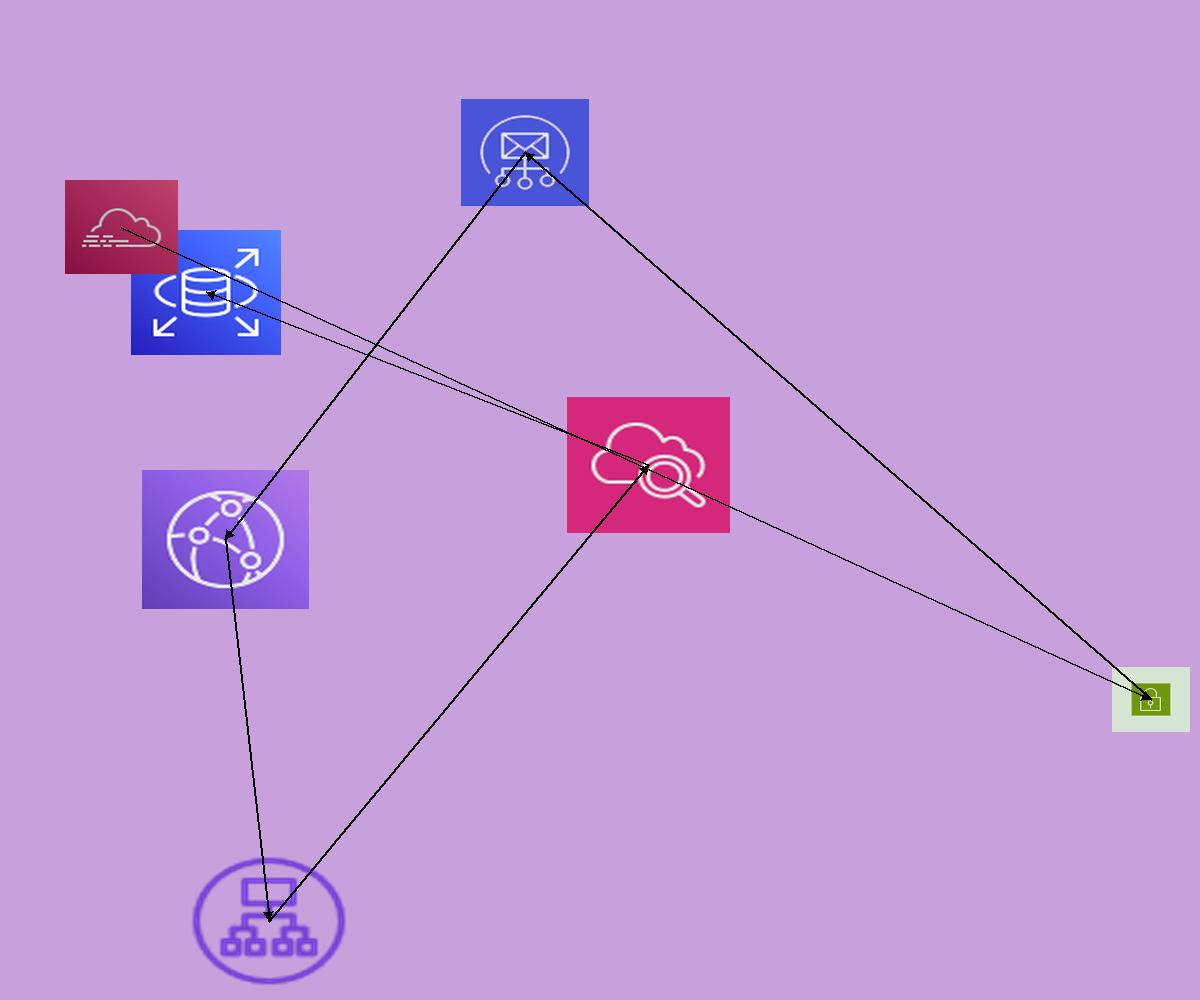AWS-CloudFront: (142, 470, 309, 609)
AWS-CloudTrail: (65, 180, 178, 274)
AWS-CloudWatch: (567, 397, 730, 533)
AWS-Public-subnet: (1112, 667, 1190, 732)
AWS-RDS: (131, 230, 281, 355)
AWS-Res_Elastic-Load-Balancing_Application-Load-Balancer: (186, 852, 352, 990)
AWS-Simple-Email-Service: (461, 99, 589, 206)
